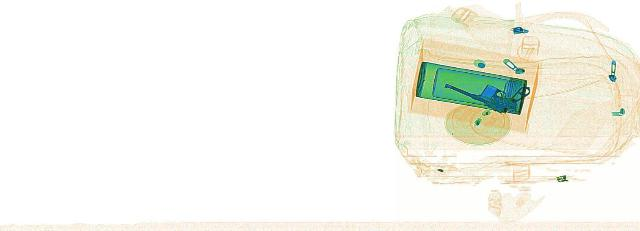Gun: (434, 71, 558, 113)
